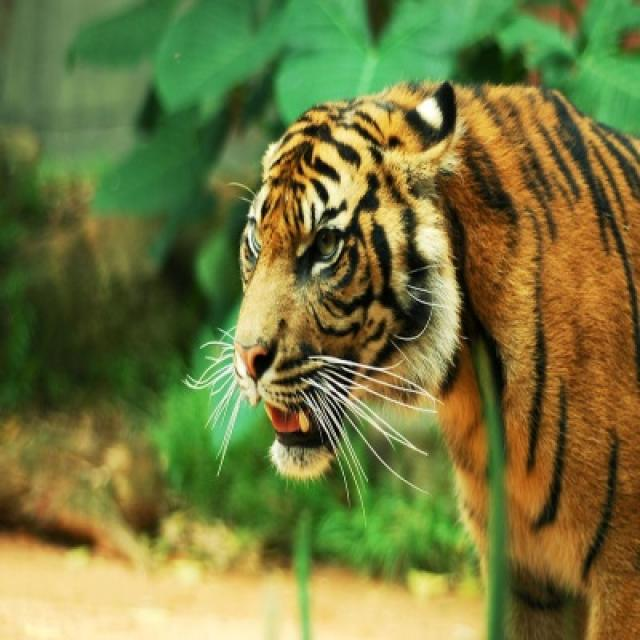Tiger: (242, 71, 638, 638)
